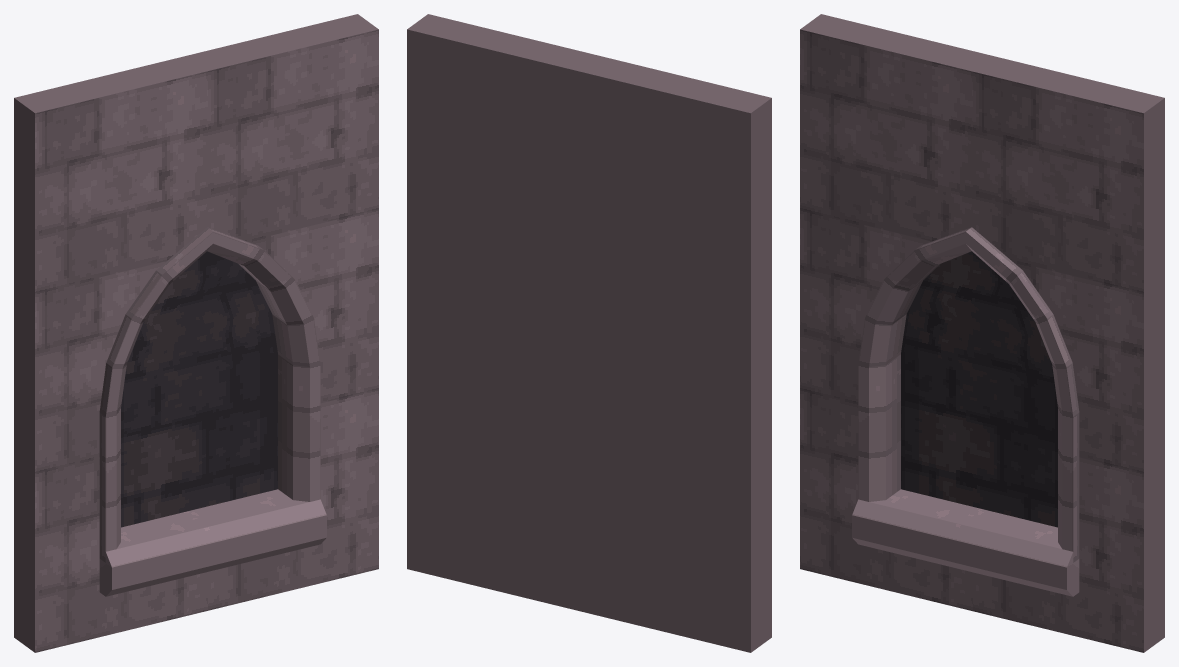
The model's file is wandnische_t15_b.glb.
3 renders of one model, left to right at view 1: azimuth 30°, elevation 25°; view 2: azimuth 150°, elevation 25°; view 3: azimuth 330°, elevation 25°, orthographic.
Parts seen in each view (by area): view 1: platte, gewaende, sohlbank; view 2: platte; view 3: platte, gewaende, sohlbank.
Boxes of the visible parts, left/top/right/bottom form: platte: left=14, top=14, right=378, bottom=652; gewaende: left=99, top=227, right=320, bottom=562; sohlbank: left=99, top=489, right=326, bottom=596; platte: left=407, top=14, right=771, bottom=652; platte: left=800, top=14, right=1164, bottom=652; gewaende: left=858, top=227, right=1079, bottom=562; sohlbank: left=852, top=489, right=1079, bottom=596.
Size of the model in its own units: 2 by 3 by 0.3375.
1 material, 1 textured.
